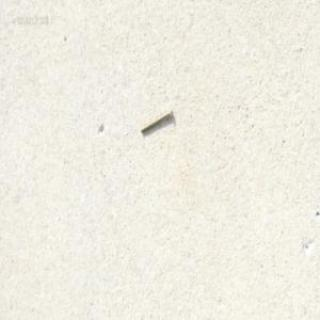Bolttrack_idkeyframe: (139, 107, 172, 134)
